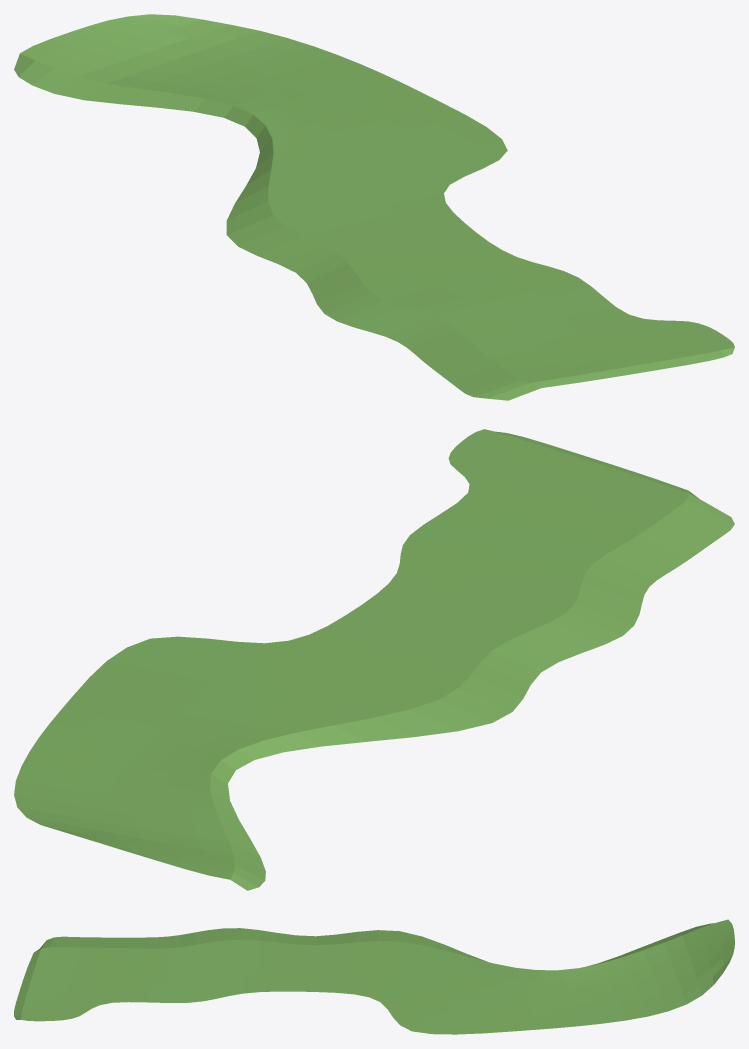
Rendered from lvl1grass_start.fbx.
The picture shows the model from 3 angles, top to bottom: view 1: azimuth 30°, elevation 25°; view 2: azimuth 150°, elevation 25°; view 3: azimuth 270°, elevation 25°; orthographic projection. The views are drawn at different scales.
Parts seen in each view (by area): view 1: grass_start; view 2: grass_start; view 3: grass_start.
Part boxes in pixels (x1=…): grass_start: x1=14, y1=14, x2=734, y2=400; grass_start: x1=14, y1=429, x2=734, y2=890; grass_start: x1=14, y1=919, x2=734, y2=1034.
Size of the model in its own units: 1552 by 145 by 4203.
